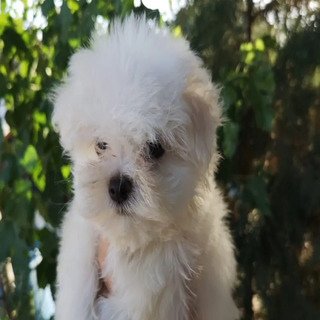perro: (50, 15, 244, 259)
